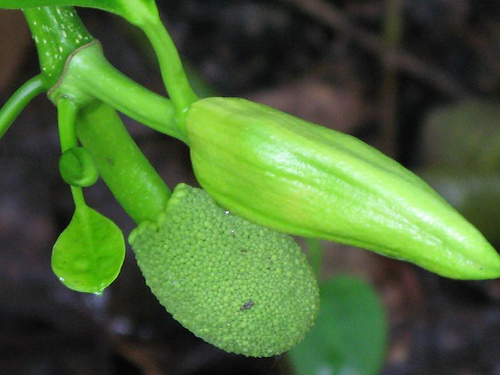jackfruit: (126, 178, 323, 363)
